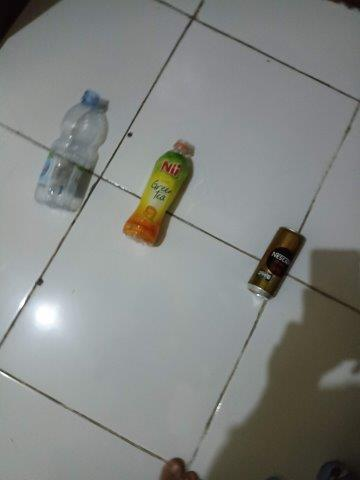botolplastik: (35, 90, 100, 209), (123, 139, 188, 246)
kaleng: (248, 226, 307, 300)
